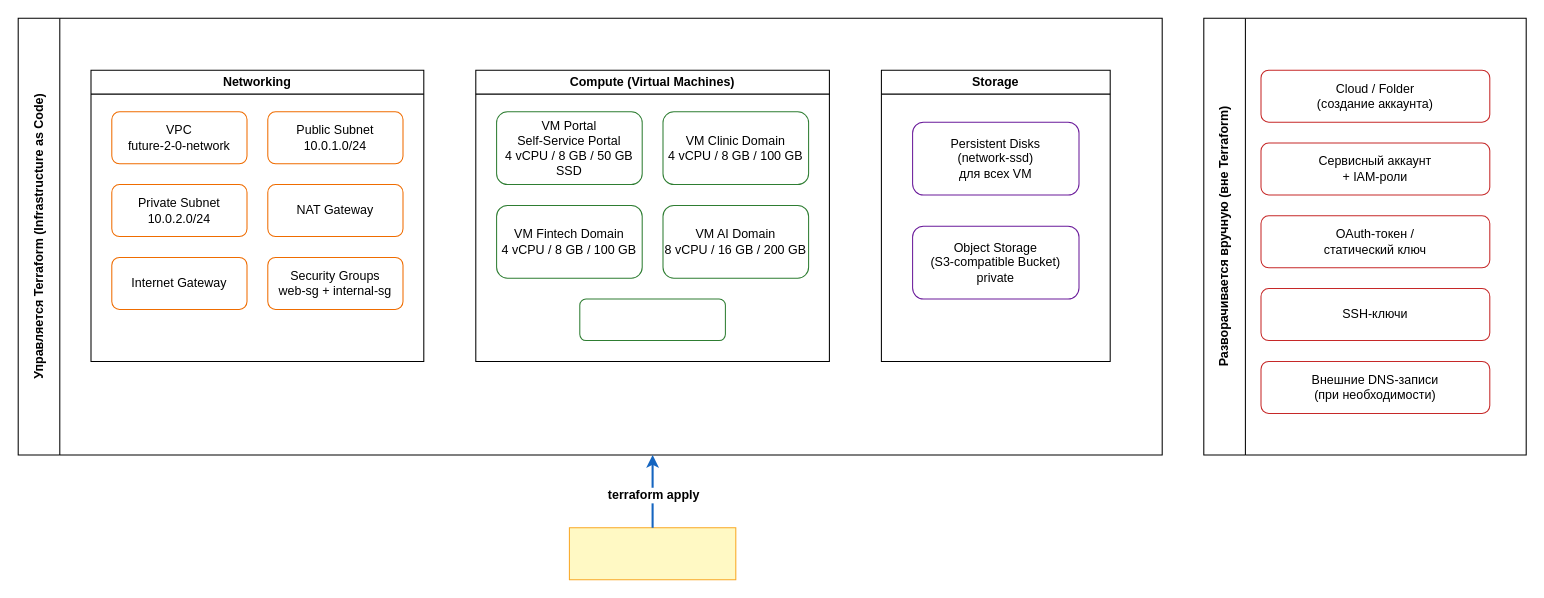
The diagram is 1544 pixels wide and 598 high, and some of its shapes have lost their labels. Here are the shapes that lost their labels. From the top down, the centre of each, then its label:
the point at 652,319: Load Balancer
the point at 652,553: Инженер / CI/CD
